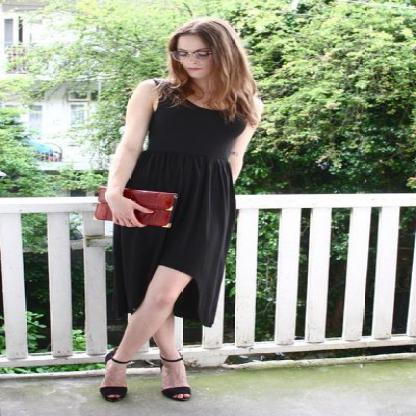bag: (94, 188, 176, 226)
dress: (105, 94, 245, 357)
shoe: (100, 386, 190, 402)
